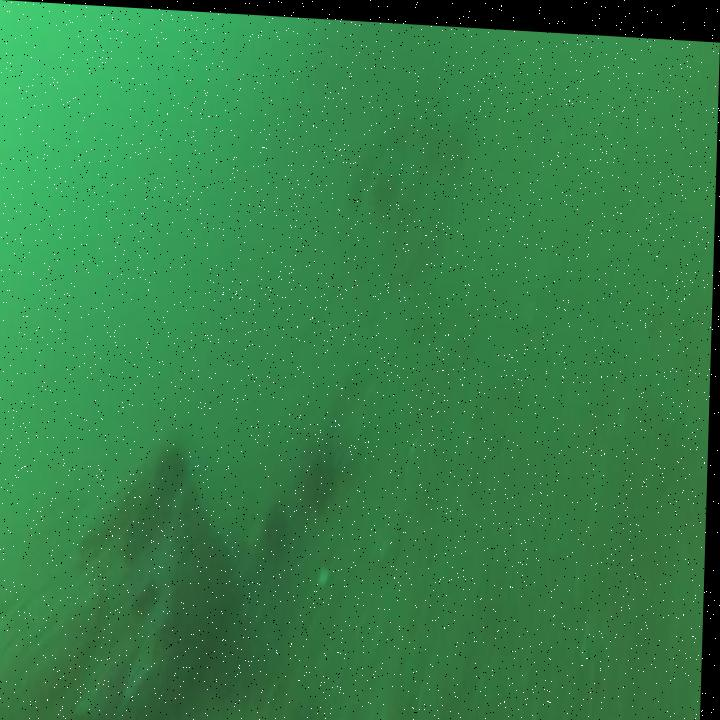echinus: (304, 445, 337, 519), (262, 491, 296, 558), (157, 442, 189, 502)
